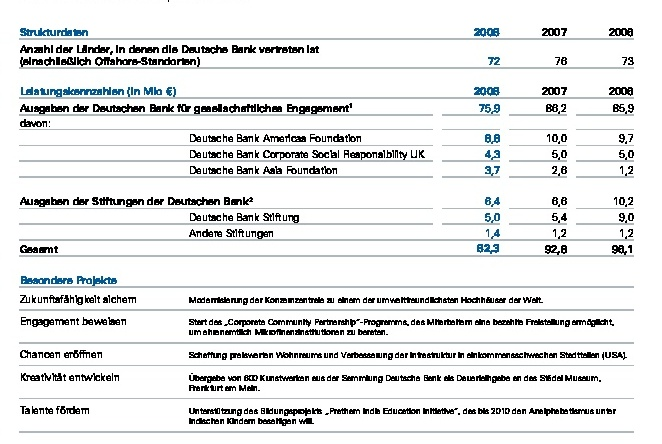table: (0, 0, 662, 444)
